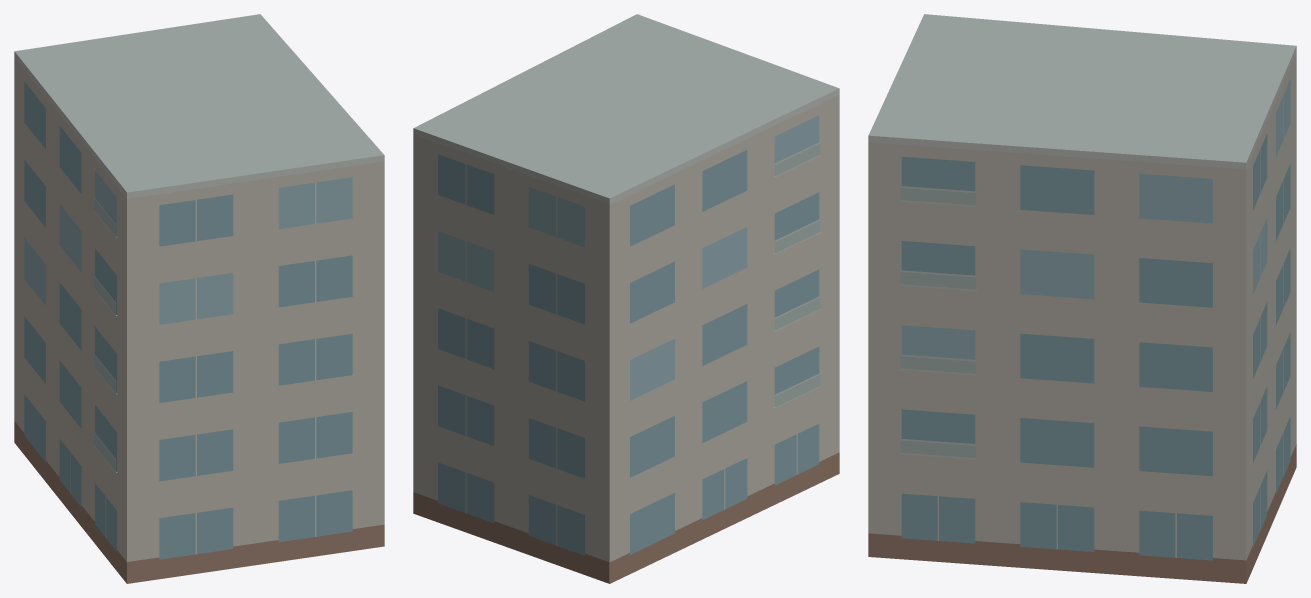
Rendered from survey-upis-32526663.glb.
The picture shows the model from 3 angles, left to right: view 1: azimuth 30°, elevation 25°; view 2: azimuth 150°, elevation 25°; view 3: azimuth 270°, elevation 25°; orthographic projection. The views are drawn at different scales.
Visible parts, largest first — view 1: survey-upis-32526663.tmp; view 2: survey-upis-32526663.tmp; view 3: survey-upis-32526663.tmp.
Part boxes in pixels (left/top/right/bottom): survey-upis-32526663.tmp: left=14, top=14, right=384, bottom=583; survey-upis-32526663.tmp: left=413, top=14, right=839, bottom=583; survey-upis-32526663.tmp: left=868, top=14, right=1296, bottom=583.
Bounding box in the file's own units: 11.52 × 15.2 × 14.02.
